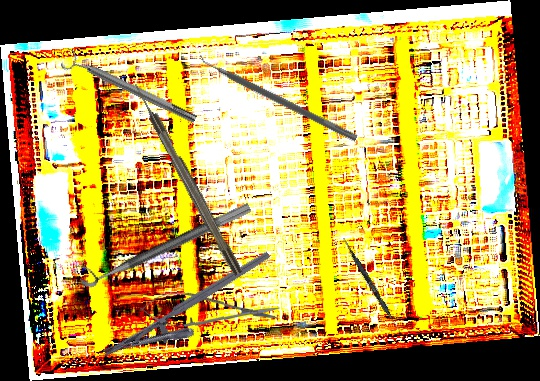Fixation Ring: (73, 188, 253, 291), (59, 46, 200, 131)
Hook Surgical: (130, 80, 244, 278)
Micro Scissor: (138, 290, 282, 332)
Needle Holder: (101, 250, 285, 380)
Spatula Surgical: (195, 50, 362, 142), (340, 237, 405, 337)
